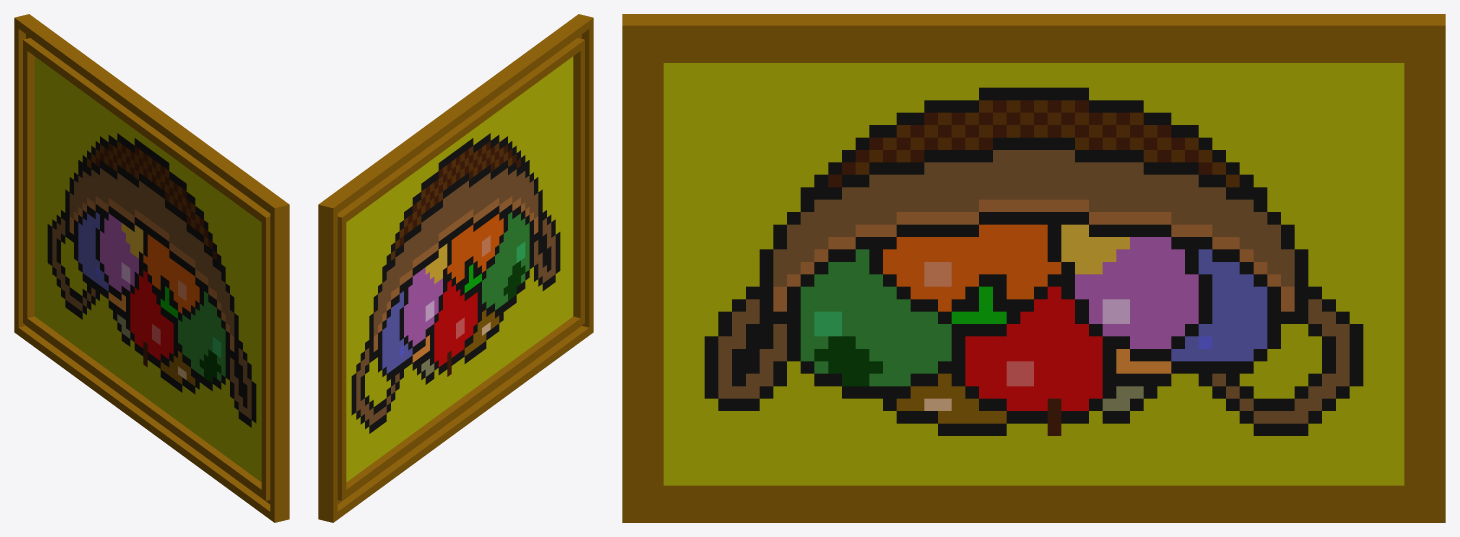
File: Painting-3.obj
3 views of the same model, side by side, from view 1: azimuth 30°, elevation 25°; view 2: azimuth 150°, elevation 25°; view 3: azimuth 270°, elevation 25° (orthographic). The views are drawn at different scales.
Visible parts, largest first — view 1: Painting-3; view 2: Painting-3; view 3: Painting-3.
Part boxes in pixels (left/top/right/bottom): Painting-3: left=14, top=14, right=289, bottom=522; Painting-3: left=318, top=14, right=593, bottom=522; Painting-3: left=622, top=14, right=1445, bottom=522.
Bounding box in the file's own units: 2 × 40 × 60.
1 material, 1 textured.
